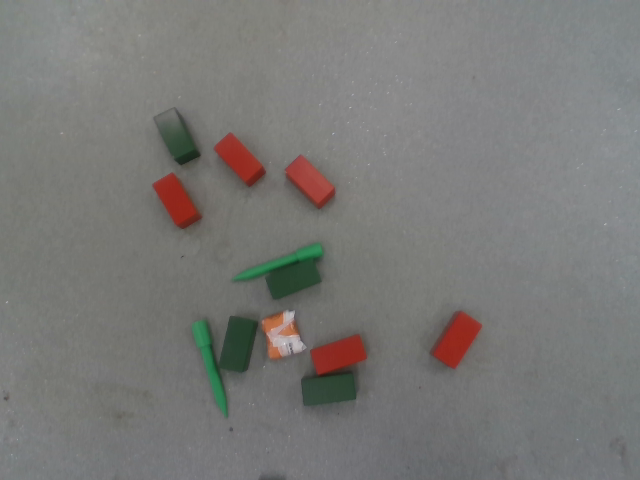Probe: (190, 318, 230, 420), (230, 240, 324, 282)
